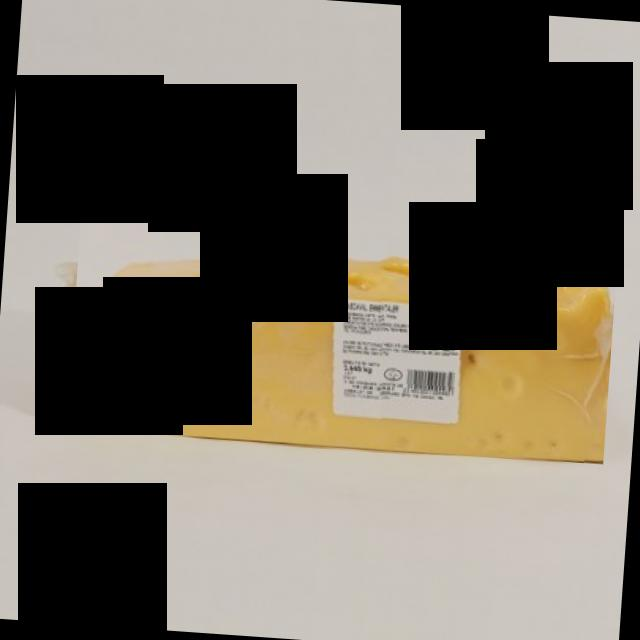cheese: (66, 216, 617, 464)
